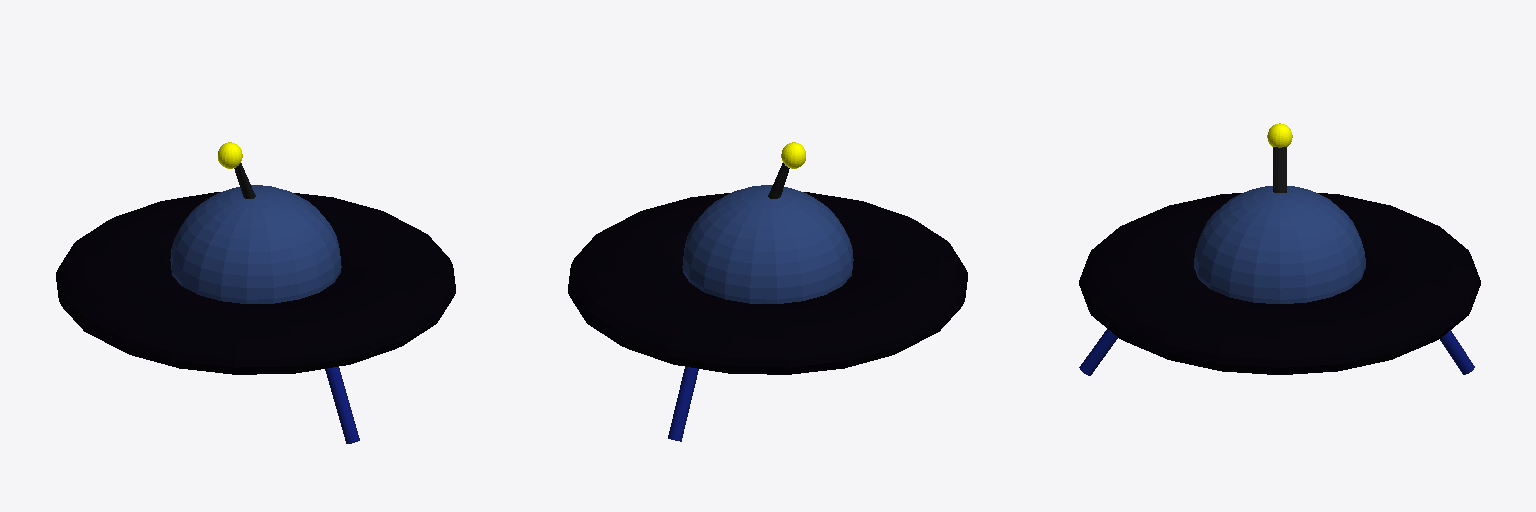
The model's file is ufo.obj.
The picture shows the model from 3 angles: view 1: azimuth 30°, elevation 25°; view 2: azimuth 150°, elevation 25°; view 3: azimuth 270°, elevation 25°; orthographic projection.
Visible parts, largest first — view 1: pTorus1, pSphere1, pasted__pCylinder1 group8; view 2: pTorus1, pSphere1, pCylinder1; view 3: pTorus1, pSphere1, pasted__pCylinder1 group8, pCylinder1, pCylinder2.
Part boxes in pixels (left/top/right/bottom): pTorus1: left=56, top=192, right=455, bottom=374; pSphere1: left=170, top=185, right=341, bottom=303; pasted__pCylinder1 group8: left=325, top=367, right=359, bottom=443; pTorus1: left=568, top=192, right=967, bottom=374; pSphere1: left=682, top=185, right=853, bottom=303; pCylinder1: left=668, top=367, right=698, bottom=441; pTorus1: left=1079, top=193, right=1480, bottom=374; pSphere1: left=1194, top=186, right=1365, bottom=303; pasted__pCylinder1 group8: left=1079, top=329, right=1117, bottom=375; pCylinder1: left=1440, top=330, right=1474, bottom=374; pCylinder2: left=1273, top=147, right=1286, bottom=192.
Bounding box in the file's own units: 8.4 × 5.46 × 8.4.